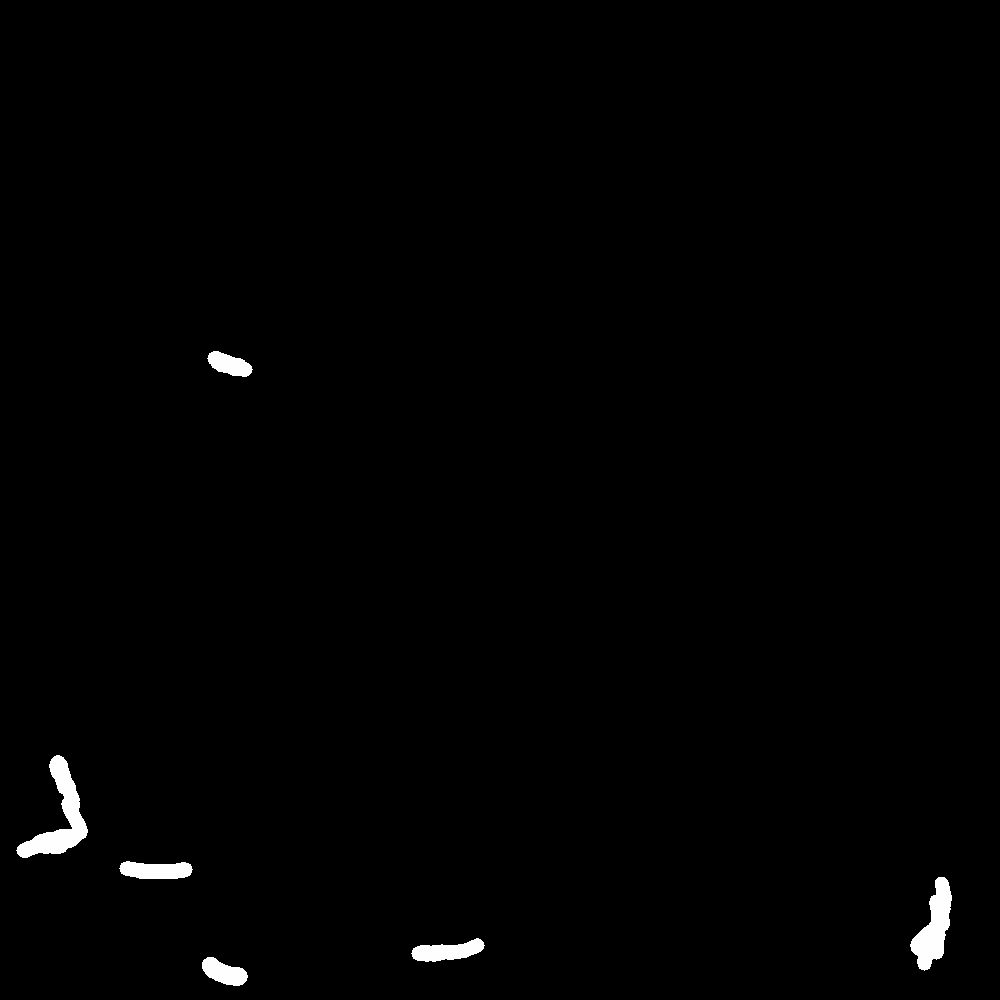illegal: (55, 770, 136, 876), (918, 840, 956, 971), (1, 828, 79, 853), (211, 321, 248, 370)
